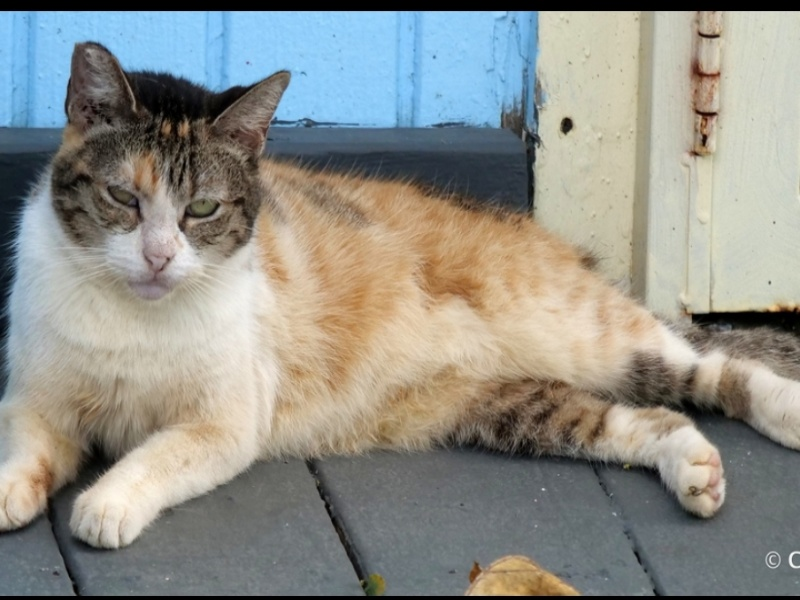cat: (3, 35, 797, 546)
